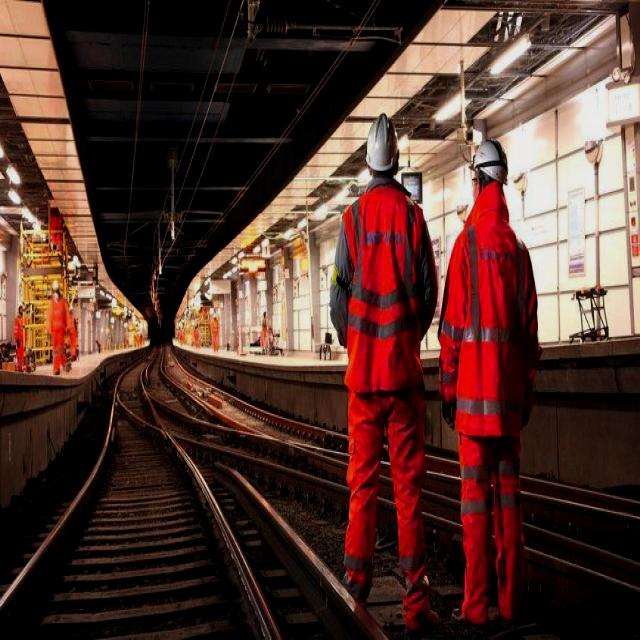head_helmet: (364, 112, 399, 174), (471, 136, 509, 184)
person: (328, 113, 441, 638), (438, 136, 538, 631), (14, 304, 27, 372), (209, 312, 219, 355)
vest: (439, 220, 540, 432), (343, 188, 435, 349)
